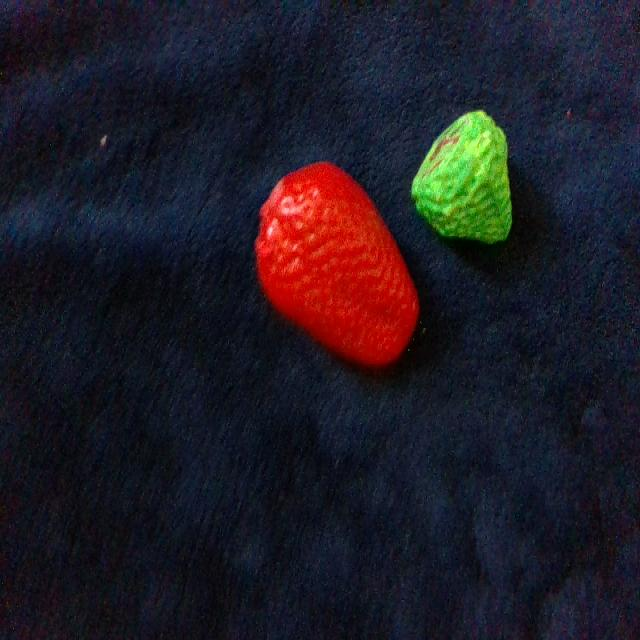grande_roja: (255, 163, 418, 364)
verde: (412, 111, 510, 243)
